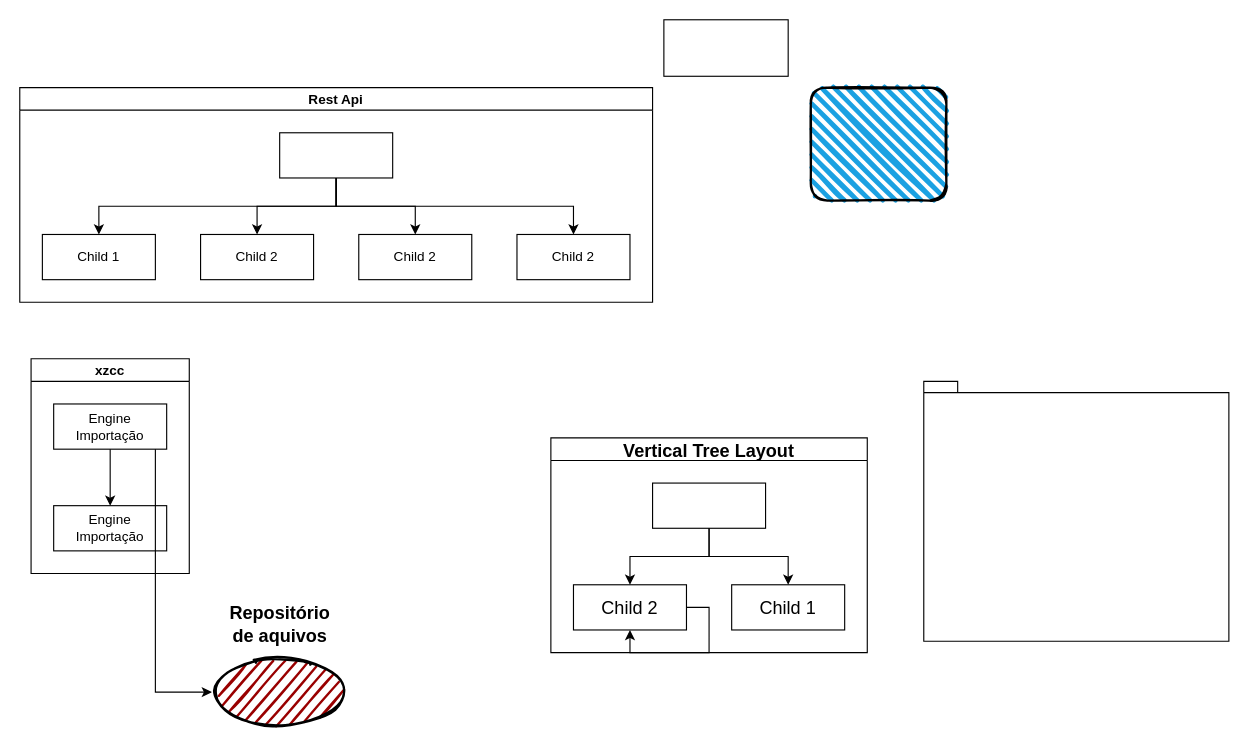
The diagram is 1249 pixels wide and 747 high, and some of its shapes have lost their labels. Each missing label, with the centre of its shape:
"POST Importação" belongs at point (336, 155).
"Root" belongs at point (708, 505).
"«interface» Name" belongs at point (725, 47).
